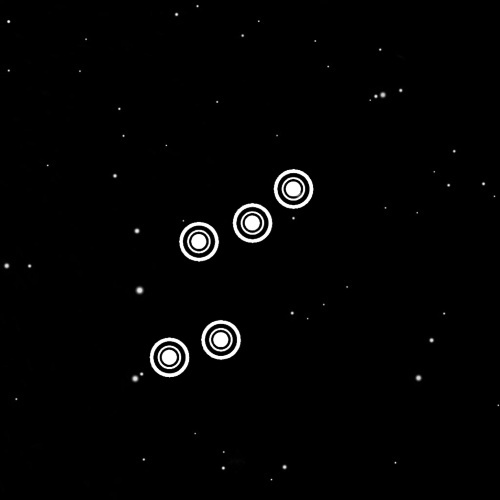lyra: (137, 149, 327, 396)
